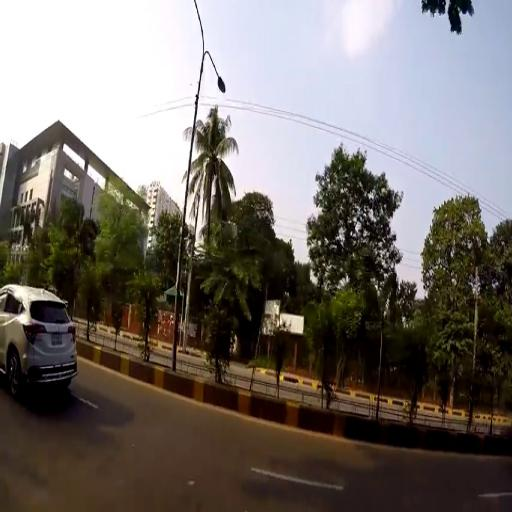car: (1, 284, 79, 392)
